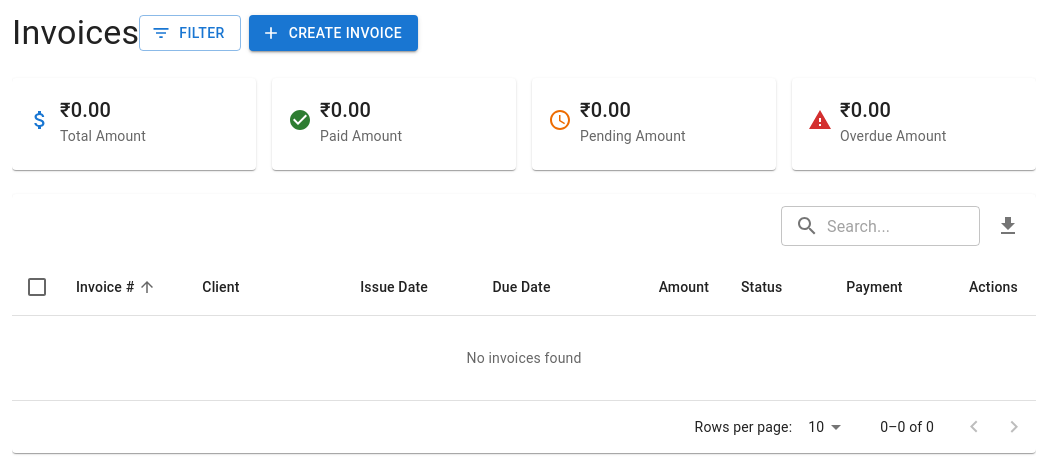
Test: InvoiceList › handles search functionality
In the field with placeholder "Search...": (904, 226) x1=827 y1=206 x2=980 y2=246, type "INV-2024-001"
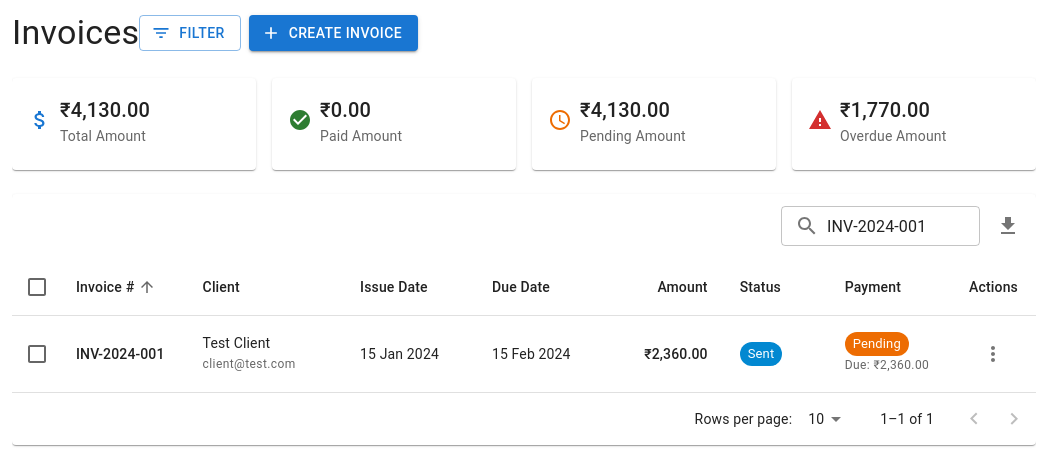
Now the text "INV-2024-001" is shown, box x1=76 y1=344 x2=171 y2=364
